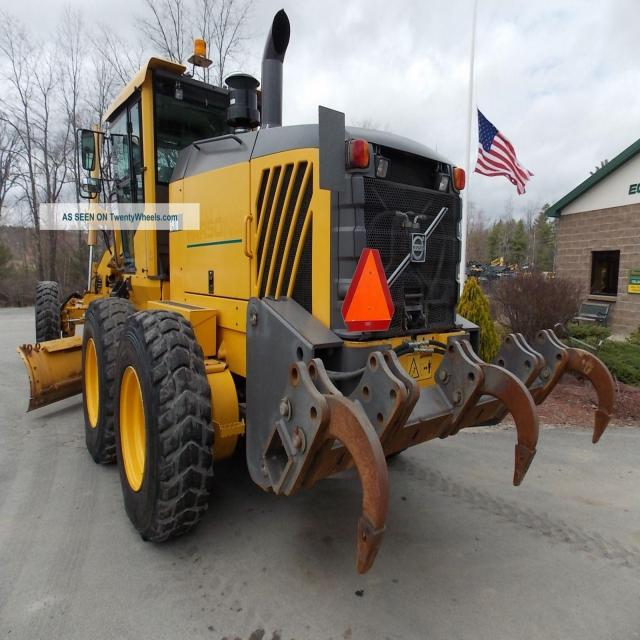Grader: (19, 55, 588, 558)
